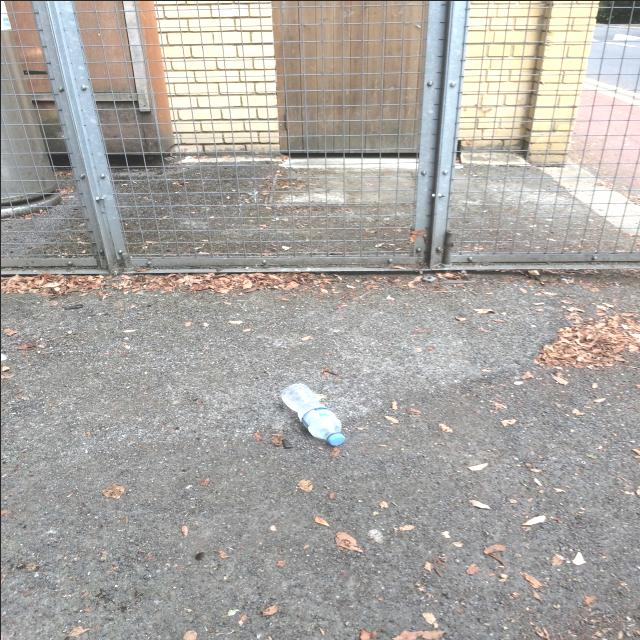Clear plastic bottle: (281, 383, 344, 444)
